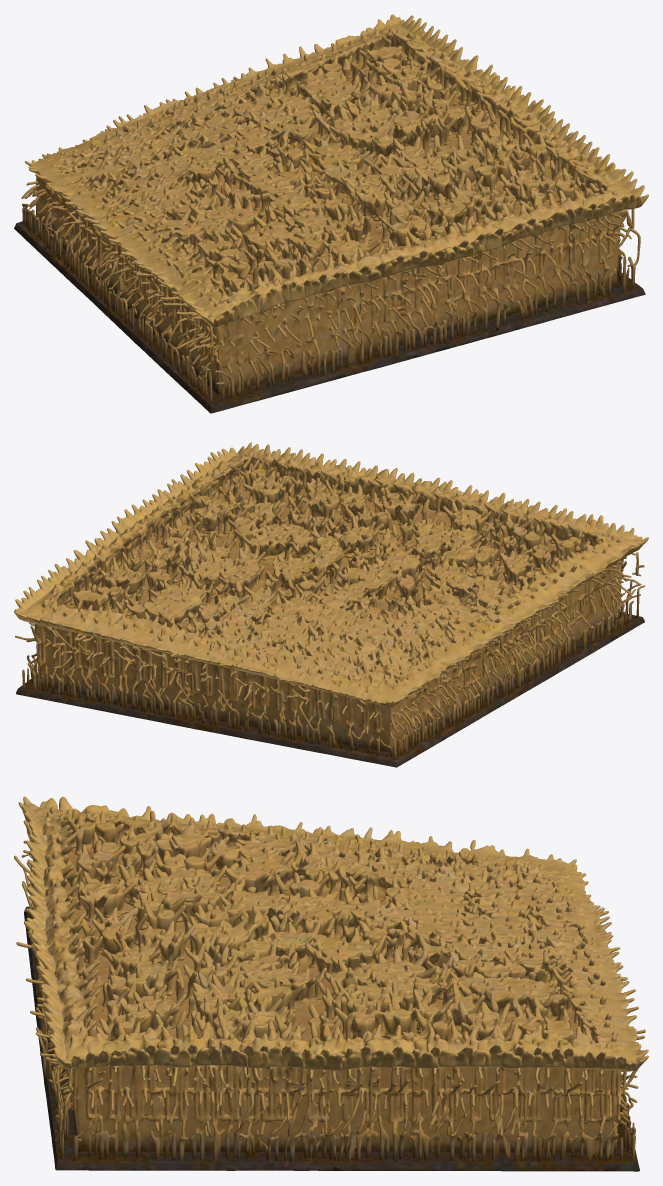
Rendered from corn-field.glb.
3 views of the same model, one above another, from view 1: azimuth 30°, elevation 25°; view 2: azimuth 150°, elevation 25°; view 3: azimuth 270°, elevation 25° (orthographic). The views are drawn at different scales.
Visible parts, largest first — view 1: tripo_node_9b603936-6935-4bfd-8a52-11eddc99f963; view 2: tripo_node_9b603936-6935-4bfd-8a52-11eddc99f963; view 3: tripo_node_9b603936-6935-4bfd-8a52-11eddc99f963.
Part boxes in pixels (box(x1,y1,x2,y2)): tripo_node_9b603936-6935-4bfd-8a52-11eddc99f963: box(14, 14, 648, 413); tripo_node_9b603936-6935-4bfd-8a52-11eddc99f963: box(14, 442, 648, 767); tripo_node_9b603936-6935-4bfd-8a52-11eddc99f963: box(14, 796, 648, 1171).
Bounding box in the file's own units: 1 × 0.2218 × 0.9826.
1 material, 1 textured.
